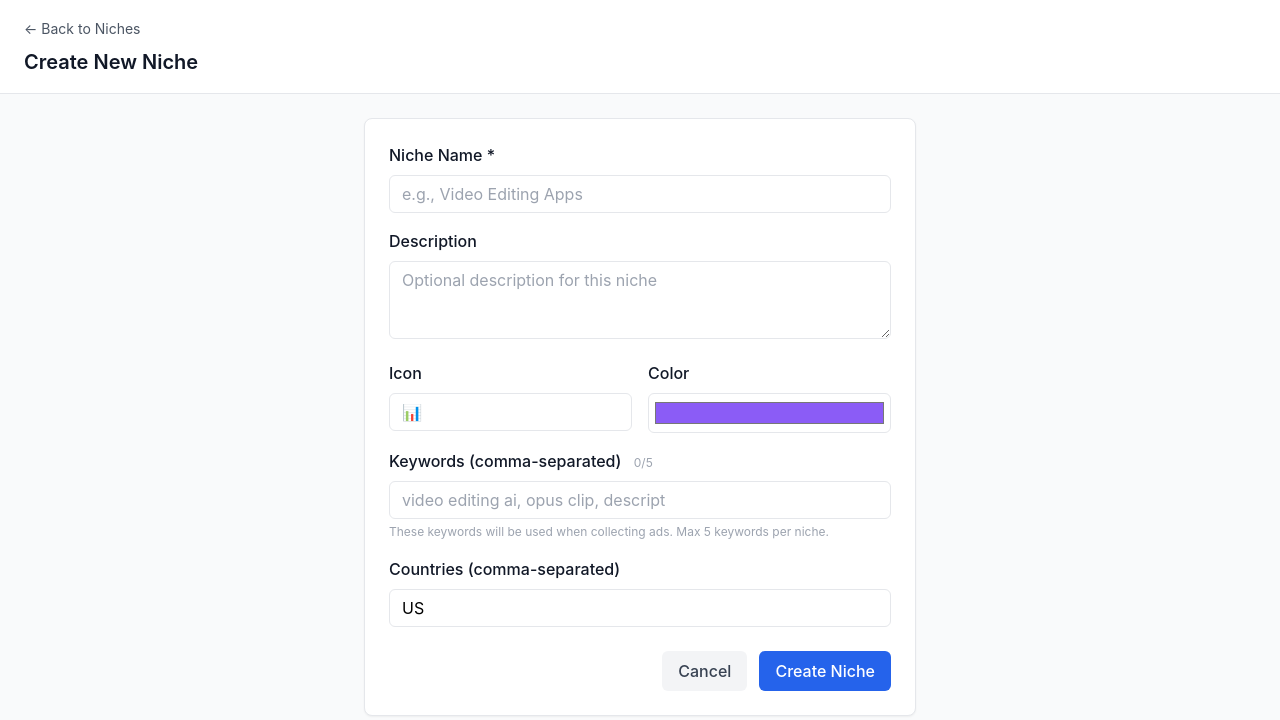
CreateNicheView — keyword counter › counts correctly for 3 comma-separated keywords
The image size is (1280, 720).
In the field with id "keywords": coordinates (640, 500) [389,481,891,519], type "ai video, opus clip, descript"
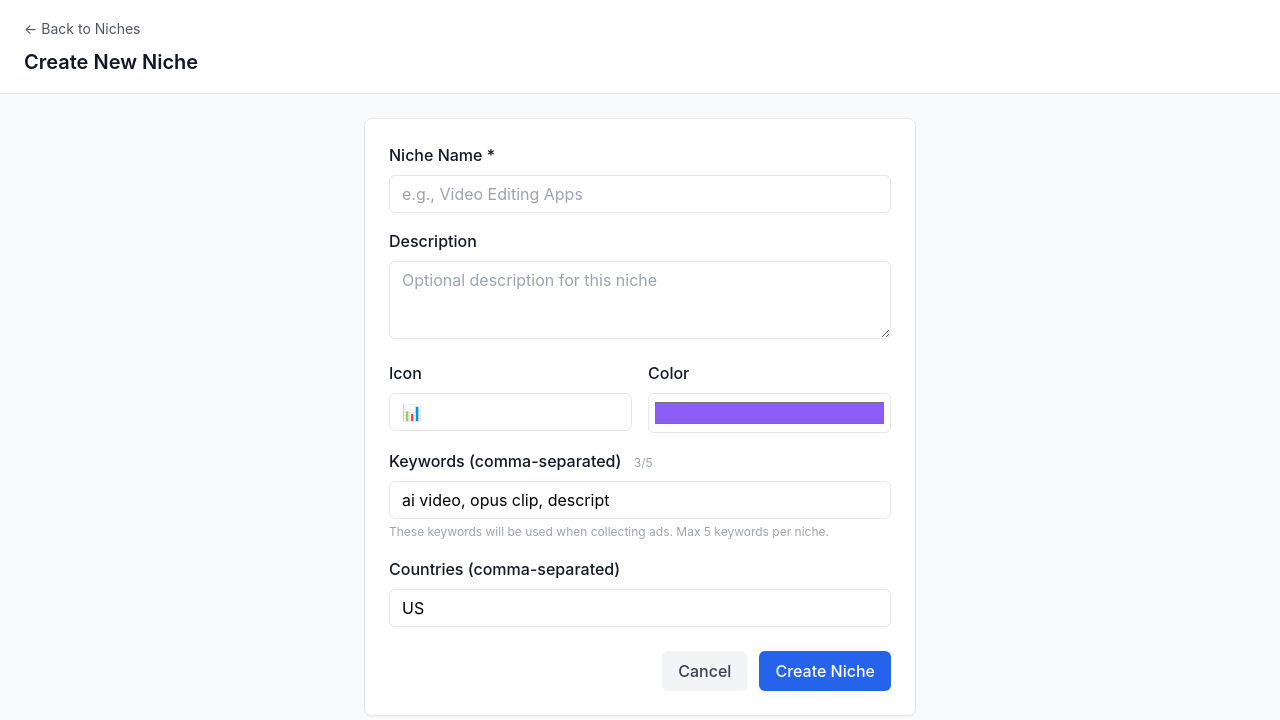
expect the text with class "keyword-count" reads "3/5": met, box [634,455,653,470]
